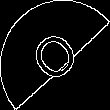O_SE: (24, 22, 86, 88)
